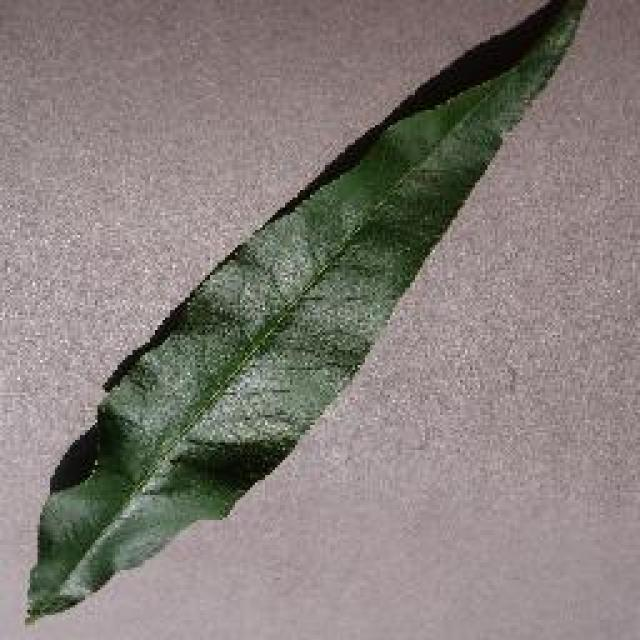Pea_healthy: (70, 70, 550, 536)
